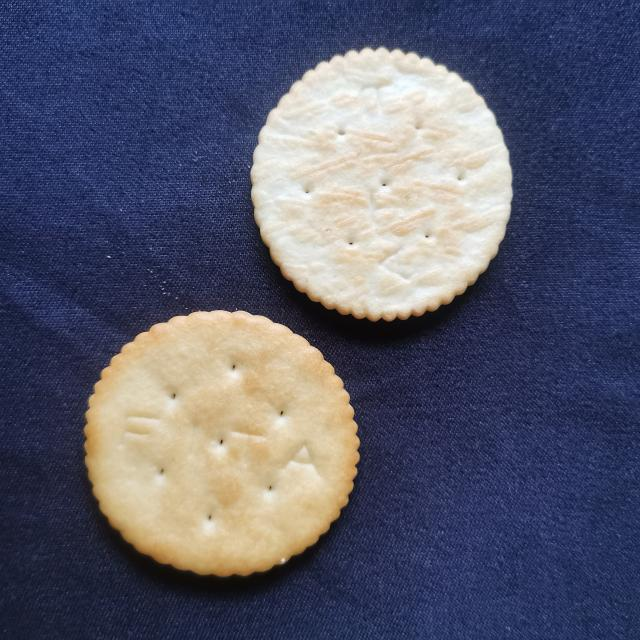Intact: (236, 34, 524, 332), (70, 305, 369, 585)
